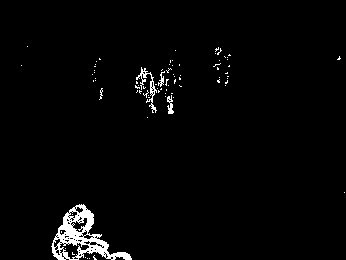person: (53, 201, 130, 260), (157, 59, 182, 115), (135, 65, 157, 115)
